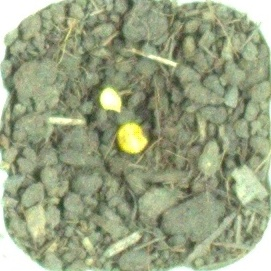chilli seed: (115, 121, 151, 154), (97, 86, 128, 116)
